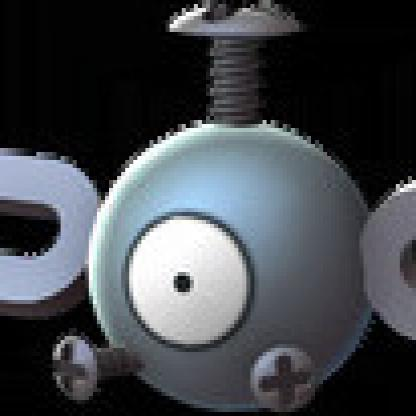Magnemite: (1, 1, 413, 413)
